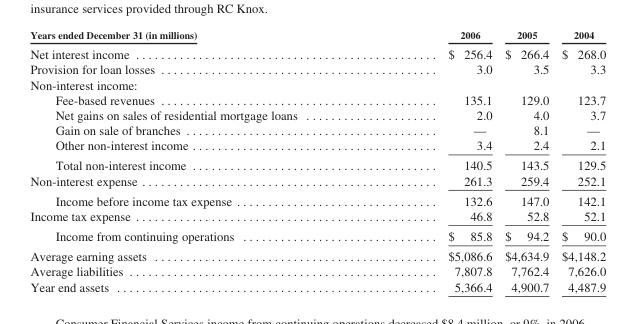table: (29, 28, 605, 293)
table column: (29, 28, 372, 293), (372, 28, 497, 293), (497, 28, 554, 293), (554, 28, 605, 293)
table column header: (29, 28, 605, 43)
table projected row header: (29, 76, 605, 91)
table row: (29, 225, 605, 245), (29, 43, 605, 61), (29, 137, 605, 155), (29, 172, 605, 190), (29, 190, 605, 208), (29, 245, 605, 263), (29, 155, 605, 172), (29, 208, 605, 225), (29, 91, 605, 107), (29, 28, 605, 43), (29, 61, 605, 76), (29, 76, 605, 91), (29, 107, 605, 122), (29, 122, 605, 137), (29, 263, 605, 278), (29, 278, 605, 293)
